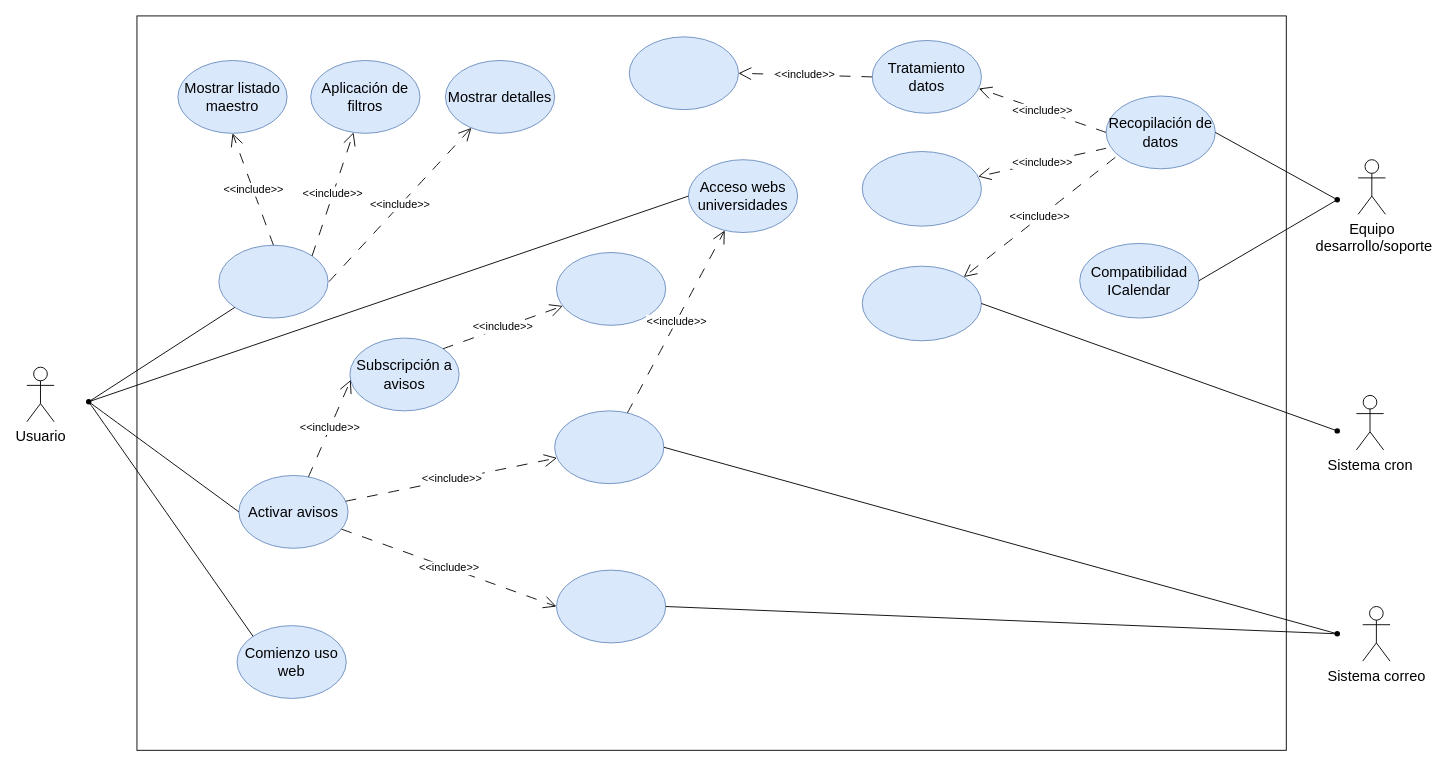
Some shapes in this 1448 by 766 pixel diagram are drawn without their labels. Here are the shapes that lost their labels. From the top down, the centre of each, then its label:
At (683,73): "Estructuración datos".
At (921,188): "Almacenamiento datos".
At (273,281): "Visualización convocatorias".
At (611,288): "Comprobación correo valido".
At (921,303): "Actualización datos".
At (609,447): "Recibir avisos".
At (611,606): "Recibir ICalendar".
